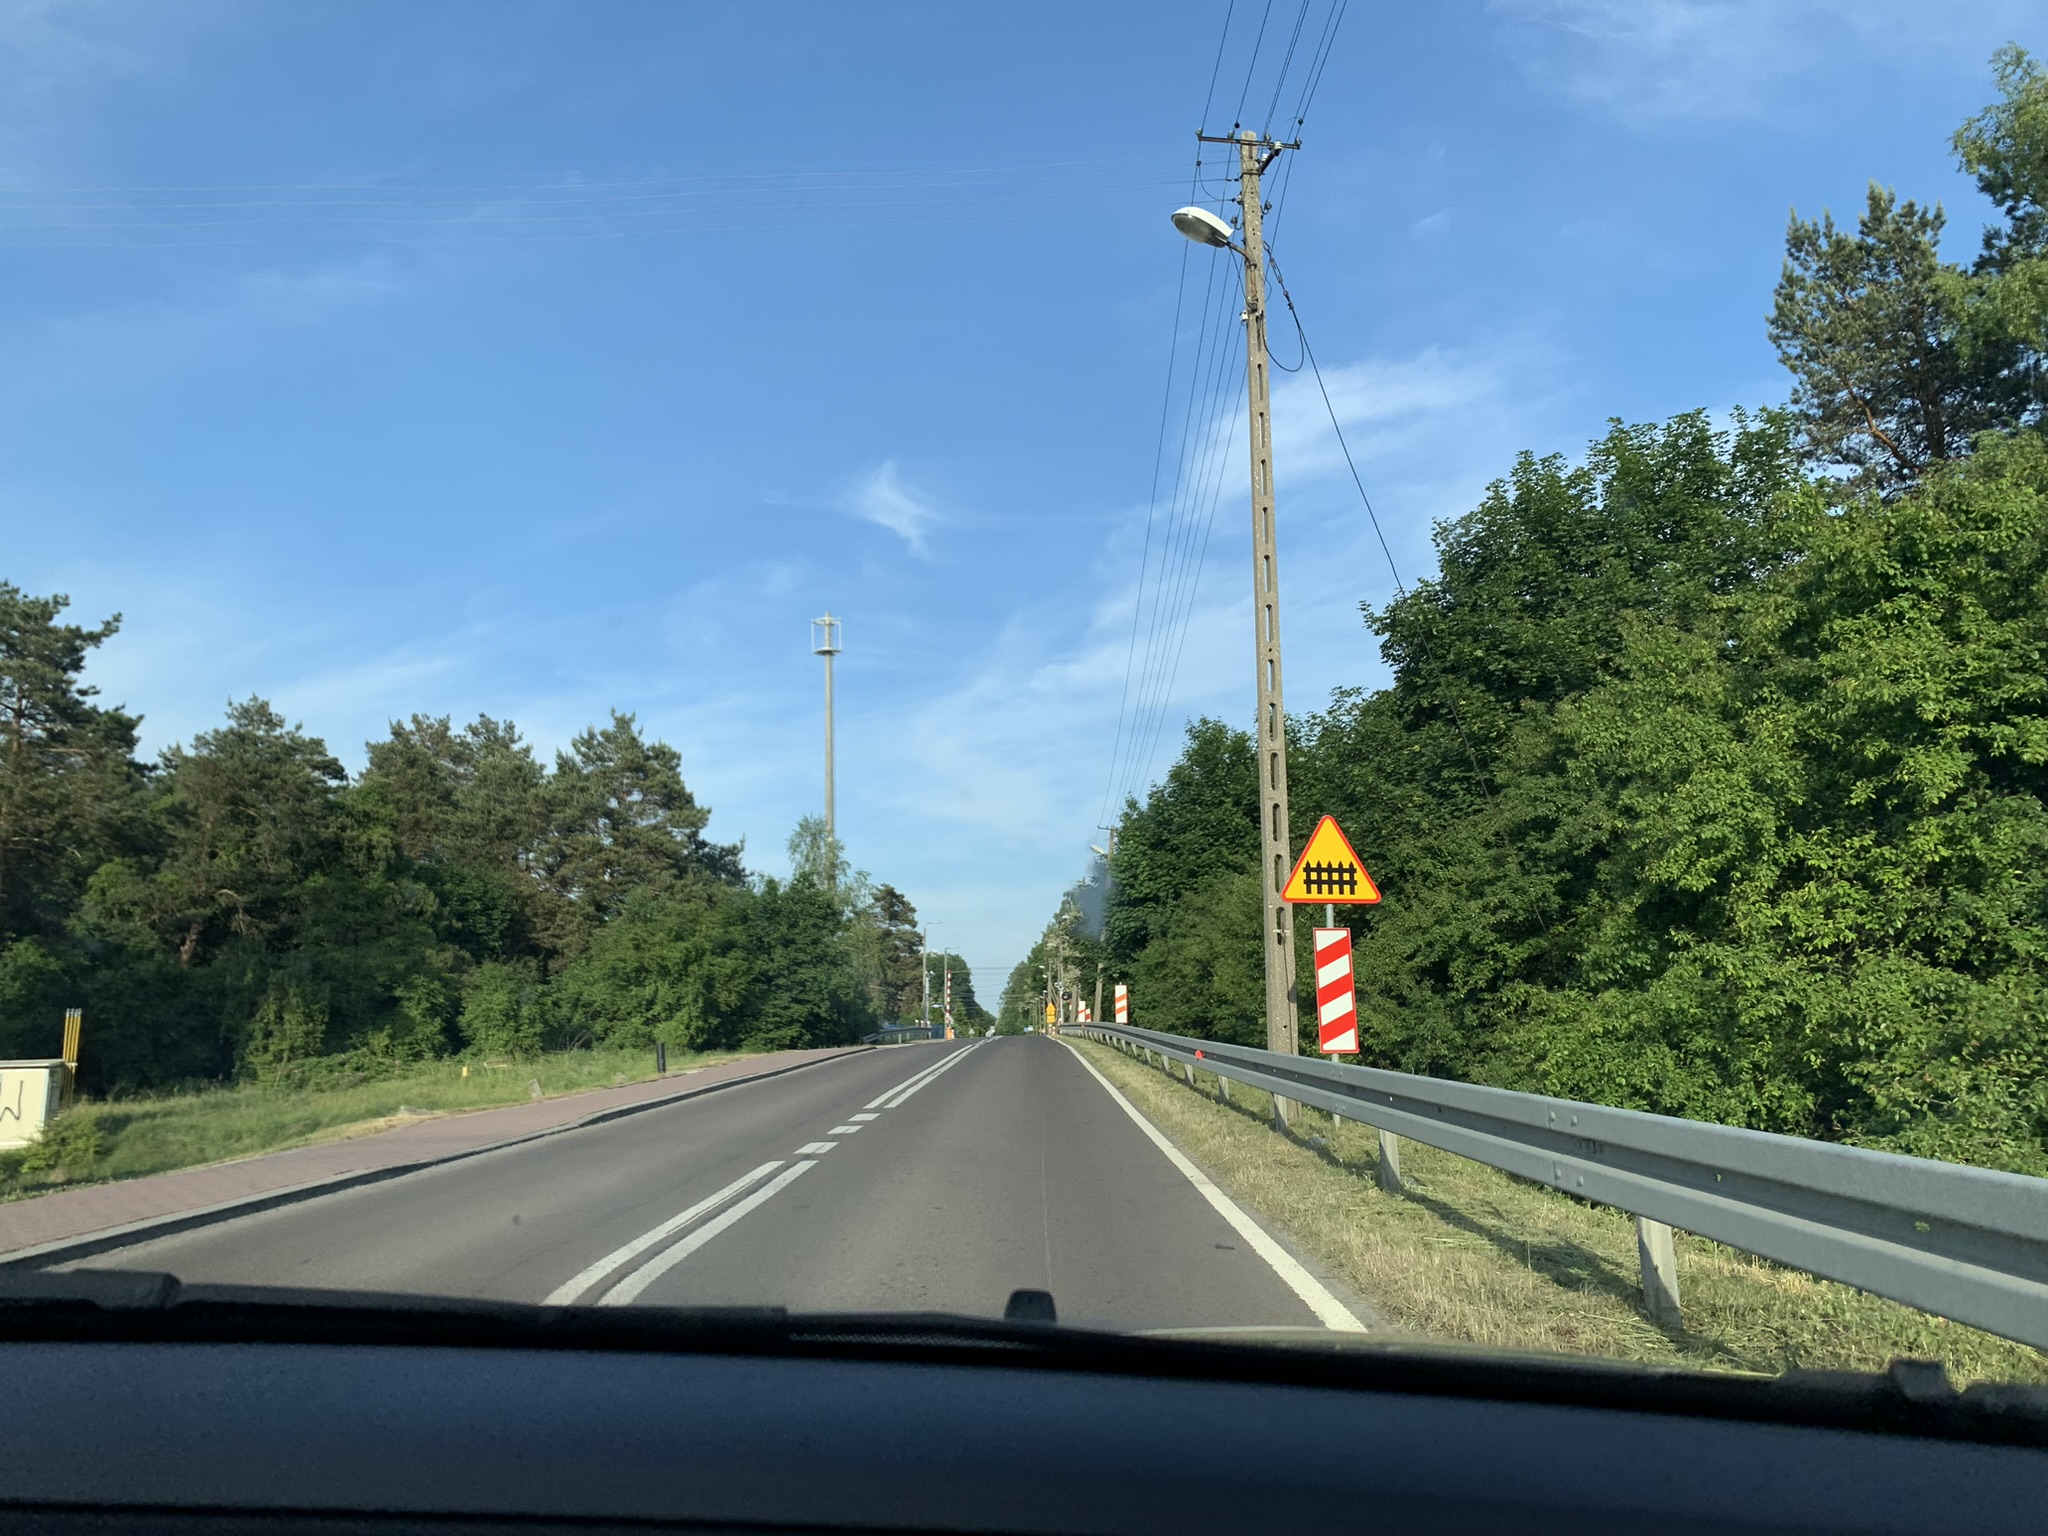a9: (1301, 857, 1359, 897)
